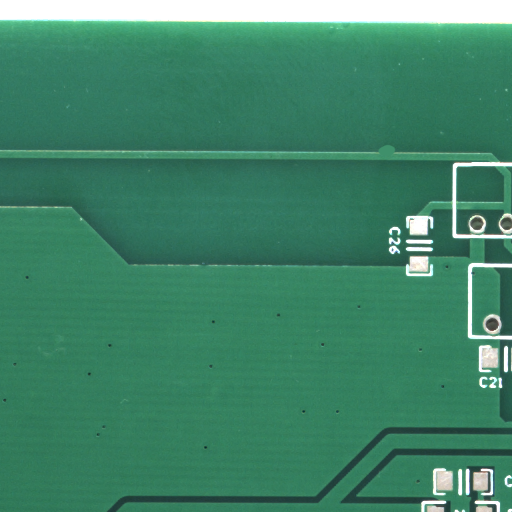Spur: (387, 149, 404, 159)
